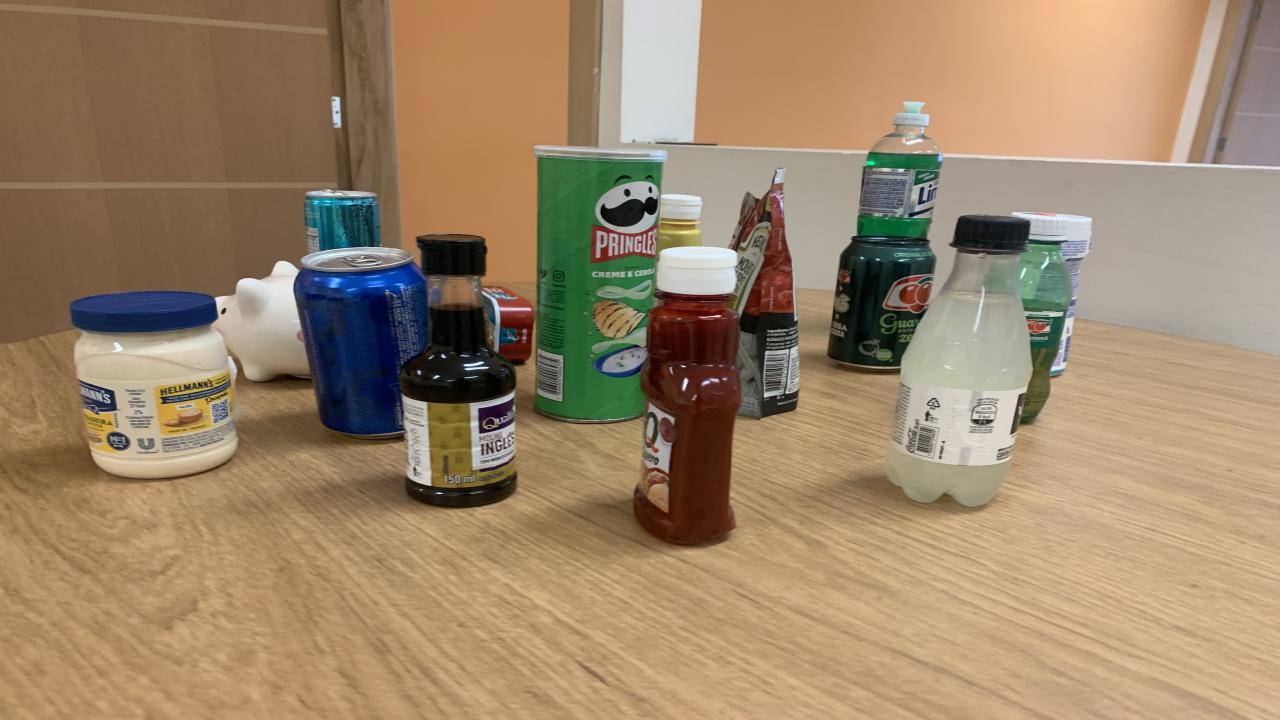Cleaner-Cleanup_Items: (1050, 214, 1092, 375)
Detergent-Cleanup_Items: (858, 101, 942, 238)
English_Sauce-Pantry_Items: (400, 234, 518, 506)
Guarana-Drinks: (1012, 212, 1072, 424)
Guarana_Can-Drinks: (828, 236, 935, 371)
Ketchup-Pantry_Items: (635, 248, 740, 544)
Mustard-Pantry_Items: (70, 291, 238, 478), (658, 195, 702, 253)
Pig_Safe-Miscellaneous: (212, 261, 310, 382)
Pringles-Snacks: (535, 146, 665, 422)
Soda-Drinks: (885, 216, 1032, 506), (885, 442, 1010, 506)
Tea-Drinks: (305, 189, 380, 253)
Tomato_Sauce-Pantry_Items: (730, 169, 800, 418)
Tonic-Drinks: (292, 248, 428, 439)
Tuna_Can-Pantry_Items: (482, 287, 535, 364)
